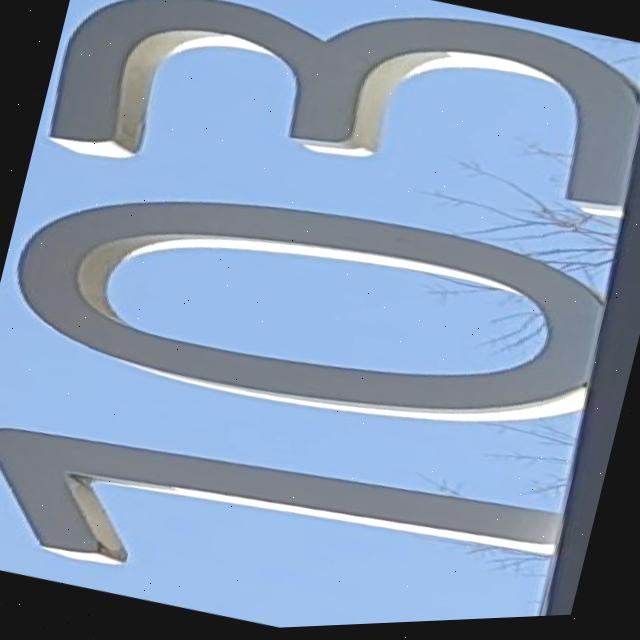character: (0, 117, 623, 488), (34, 0, 640, 283), (0, 359, 570, 640)
